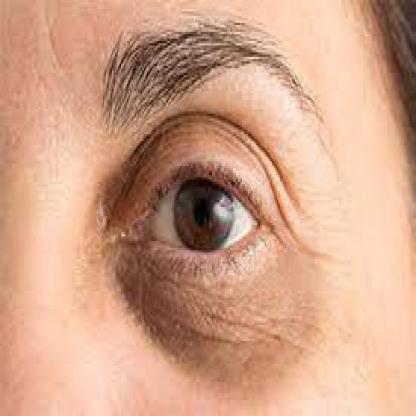darkspot: (149, 286, 226, 341)
